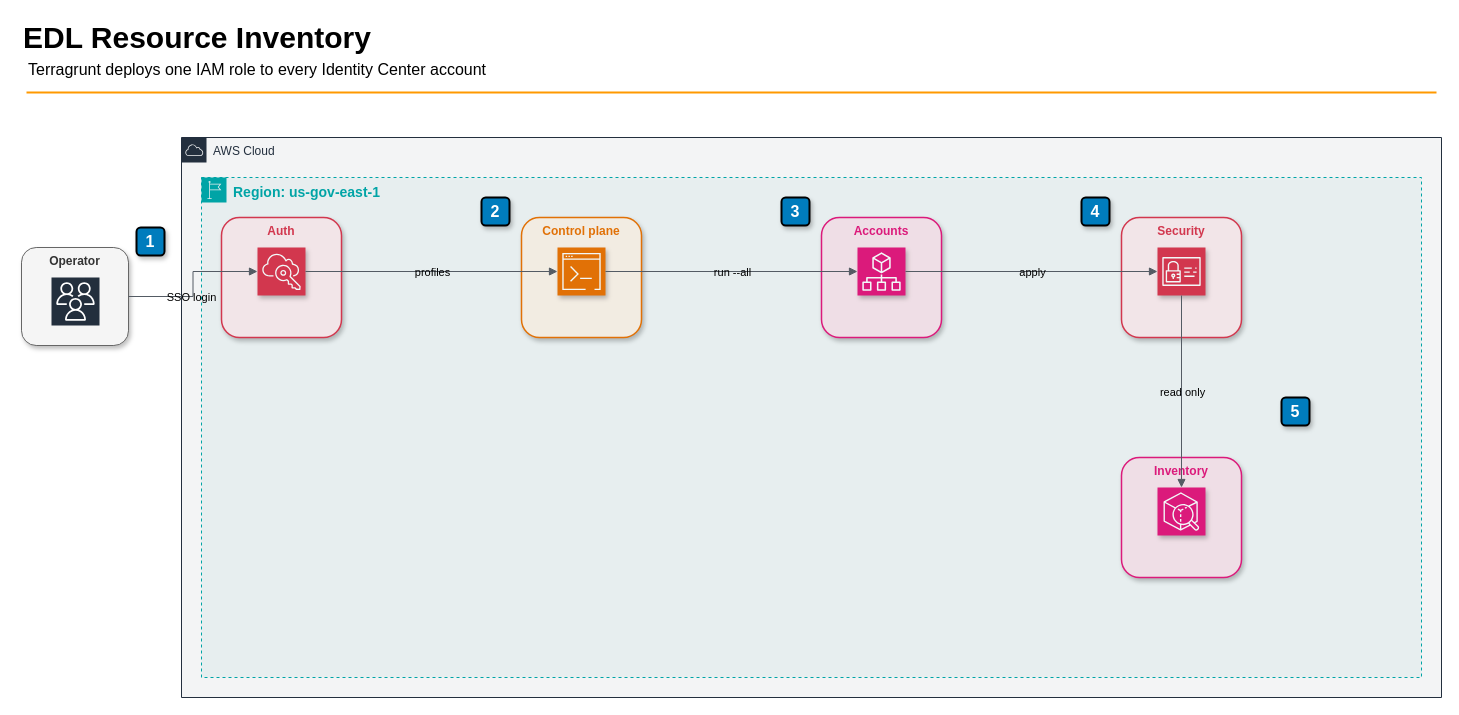
This 1459x715 diagram has some shape labels left out. The centre of each missing label's shape, as x and y in pixels:
IAM Identity Center SSO profiles: (282,272)
IAM Role r-edl-resource-inventory: (1182,272)
Organizations every SSO account: (882,272)
Resource Groups read-only tags: (1182,512)
Terragrunt run --all: (582,272)
